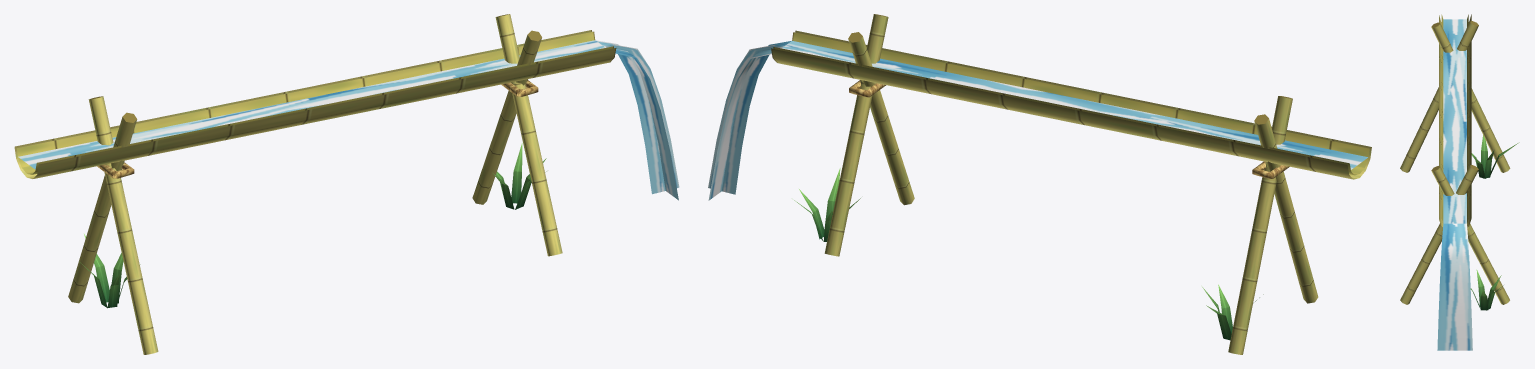
The model's file is terrace_pipe.glb.
The picture shows the model from 3 angles, left to right: view 1: azimuth 30°, elevation 25°; view 2: azimuth 150°, elevation 25°; view 3: azimuth 270°, elevation 25°; orthographic projection. The views are drawn at different scales.
Parts seen in each view (by area): view 1: terrace_pipe_bamboo, terrace_pipe_water, terrace_pipe_spill, terrace_pipe_weeds; view 2: terrace_pipe_bamboo, terrace_pipe_water, terrace_pipe_spill, terrace_pipe_weeds; view 3: terrace_pipe_bamboo, terrace_pipe_water, terrace_pipe_spill, terrace_pipe_weeds.
Boxes of the visible parts, bbox=[...] form: terrace_pipe_bamboo: bbox=[14, 14, 616, 354]; terrace_pipe_water: bbox=[18, 40, 605, 169]; terrace_pipe_spill: bbox=[596, 40, 679, 200]; terrace_pipe_weeds: bbox=[79, 143, 546, 308]; terrace_pipe_bamboo: bbox=[771, 14, 1371, 354]; terrace_pipe_water: bbox=[782, 41, 1367, 169]; terrace_pipe_spill: bbox=[708, 41, 790, 200]; terrace_pipe_weeds: bbox=[794, 168, 1263, 340]; terrace_pipe_bamboo: bbox=[1400, 14, 1510, 304]; terrace_pipe_water: bbox=[1443, 19, 1466, 223]; terrace_pipe_spill: bbox=[1437, 223, 1472, 350]; terrace_pipe_weeds: bbox=[1470, 135, 1519, 310].
Size of the model in its own units: 3.39 by 1.11 by 0.8139.
Materials: 3 (3 with a texture image).
